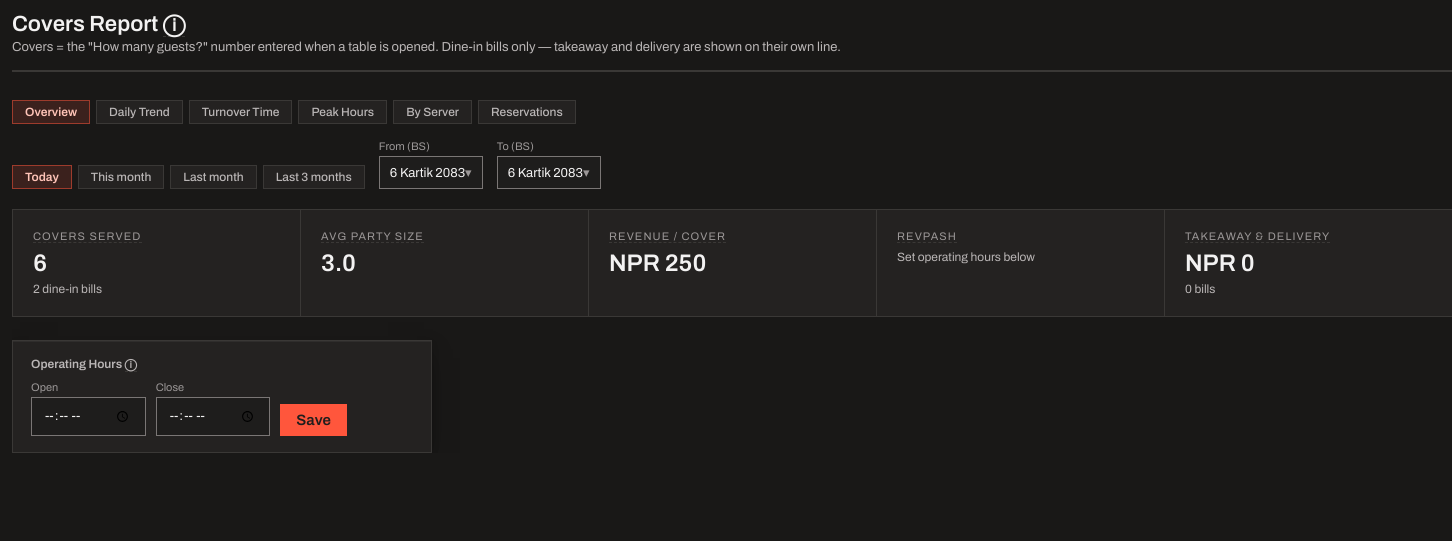
Test: a refused hours save is an ActionError that names the consequence and keeps the code
What coordinates should you click on to do the following:
click the button "Save"
I would click on:
 (314, 420)
Its box is [280,404,347,436].
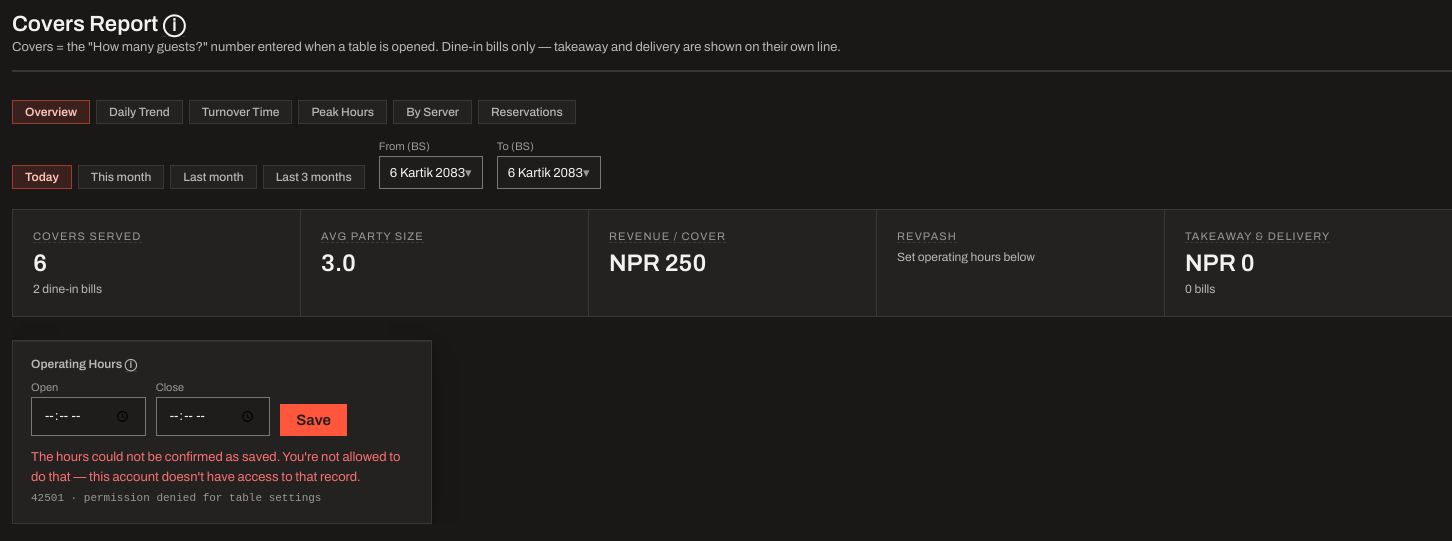
expect the text "The hours could not be confirmed as saved." is shown: met, box [31,450,400,484]
